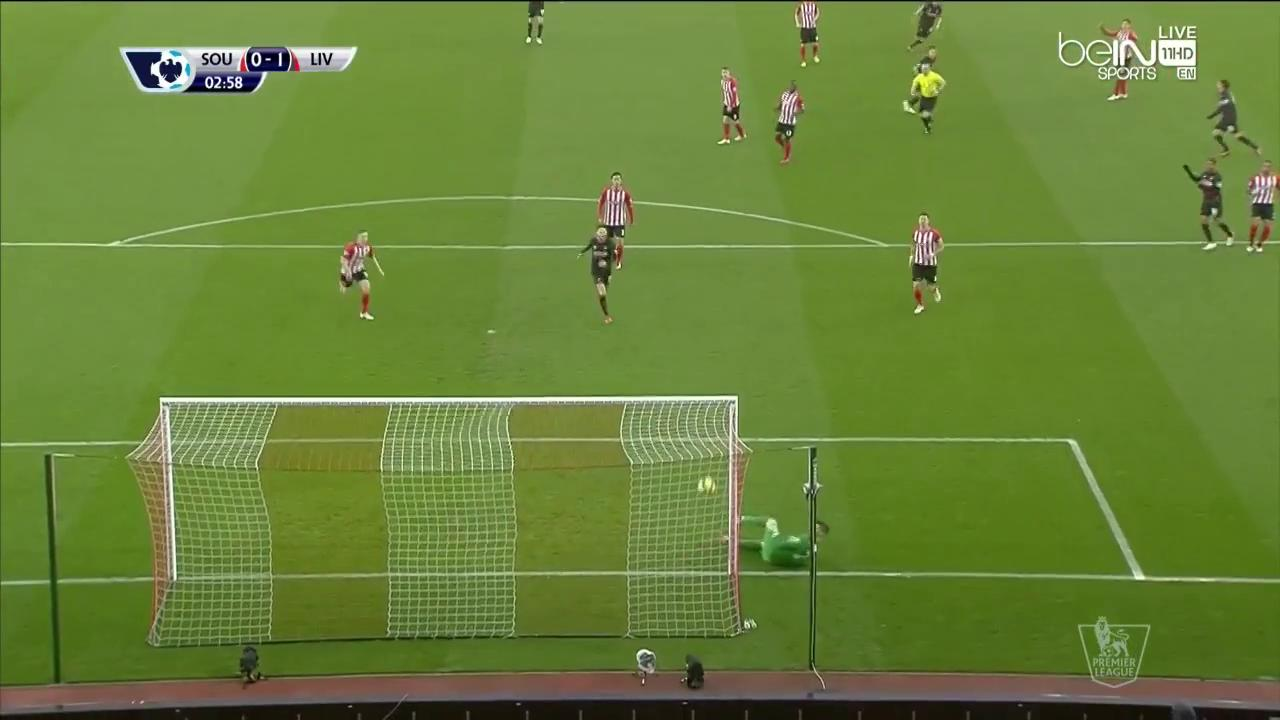football: (697, 474, 716, 499)
